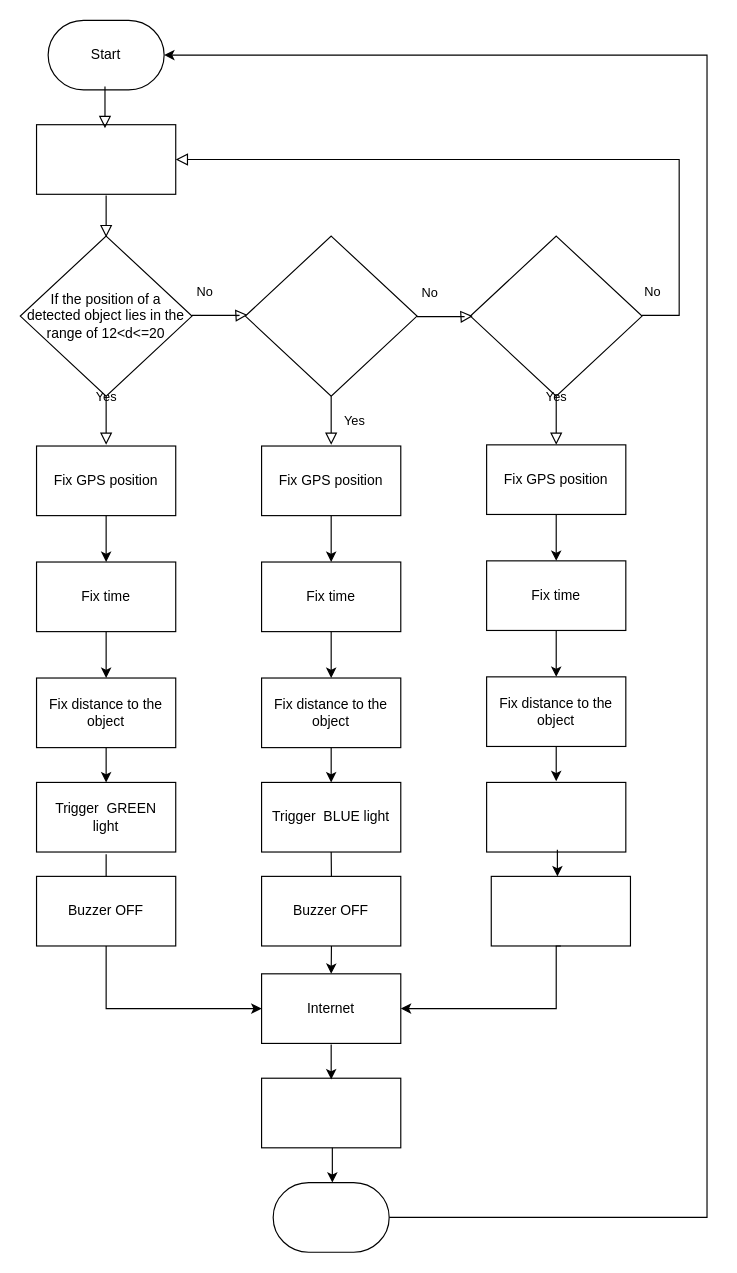
The diagram is 737 pixels wide and 1273 high, and some of its shapes have lost their labels. The shapes that lost their labels are listed below. From the top down, each one's centre as x and y in pixels, then its label:
At (105,159): "Ultrasonic sensor collects data".
At (330,315): "If the position of a detected object lies in the range of 5<d<=12".
At (555,315): "If the position of a detected object lies in the range of d<=5".
At (555,816): "Trigger RED light".
At (560,910): "Buzzer ON".
At (330,1112): "Cloud".
At (330,1216): "End".
